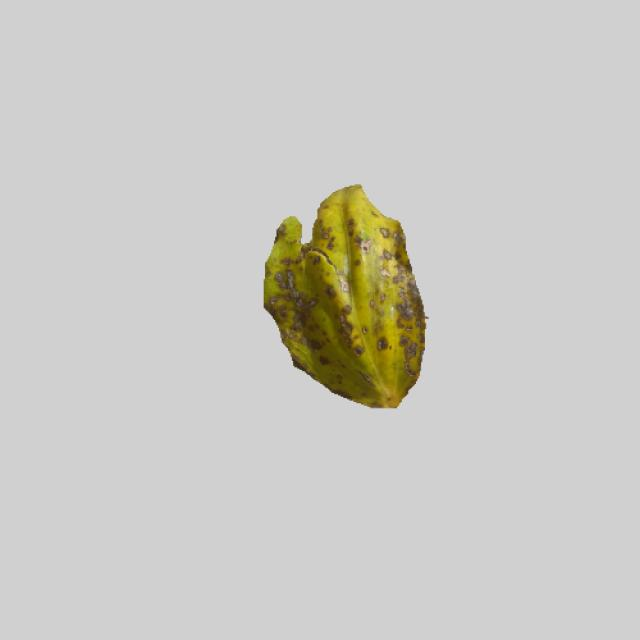yellow-mottle-virus: (261, 179, 428, 406)
